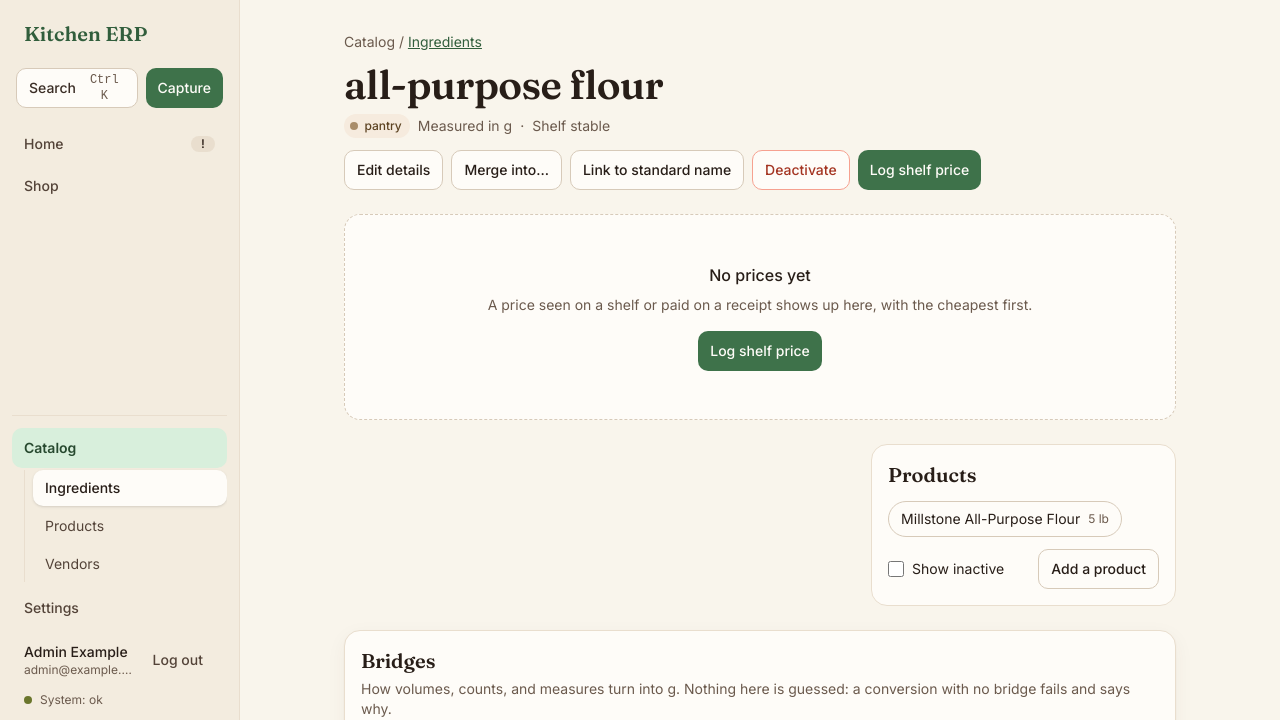
Test: an ingredient's own page › merges into another ingredient after the link page's preview, keeping the other's name
Click the button "Merge into…" at {"x": 507, "y": 170}, box [451,150,562,190]
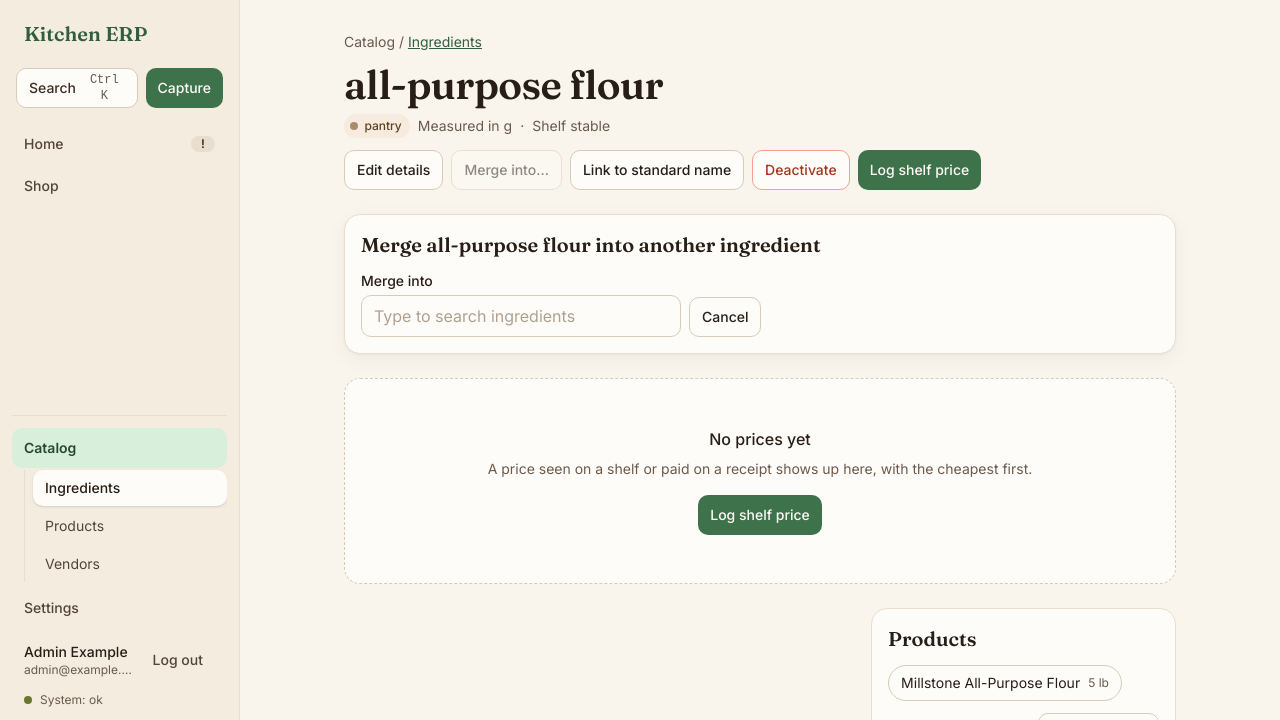
Type "wheat" into the dropdown labelled "Merge into" at {"x": 521, "y": 316}, box [361,295,681,337]
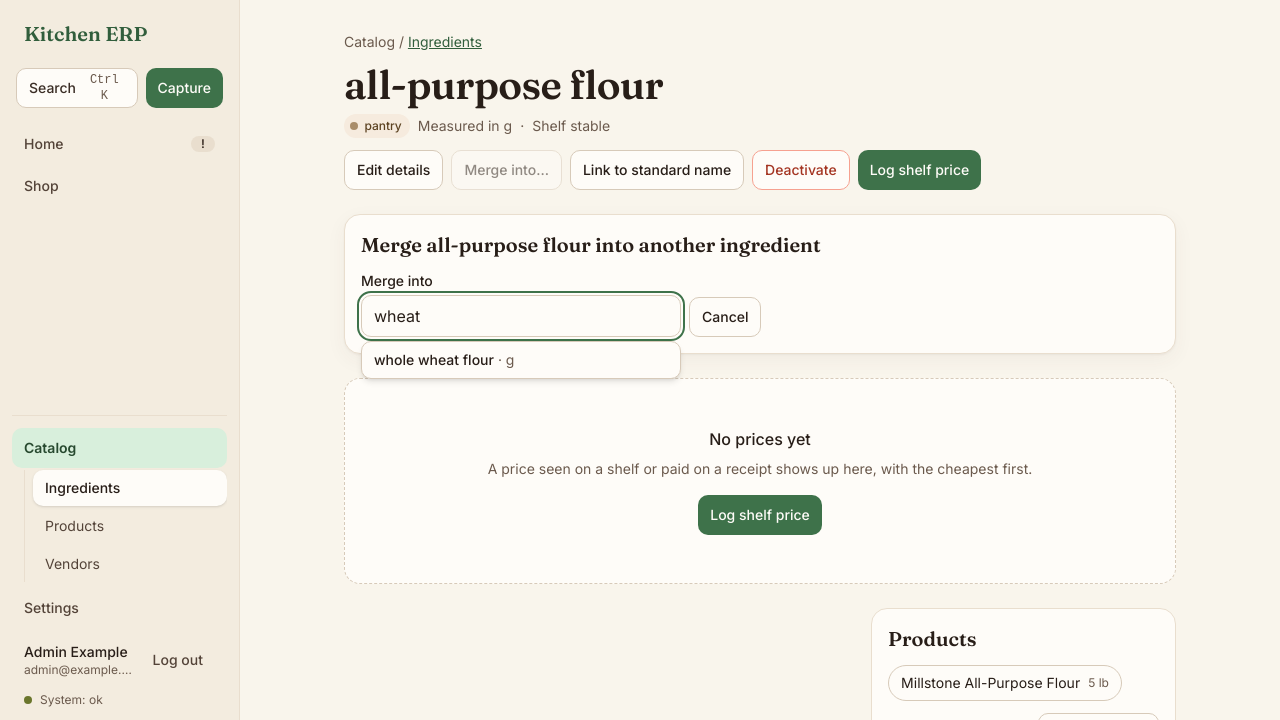
Click the option "whole wheat flour · g" at {"x": 444, "y": 360}, box [374,351,514,368]
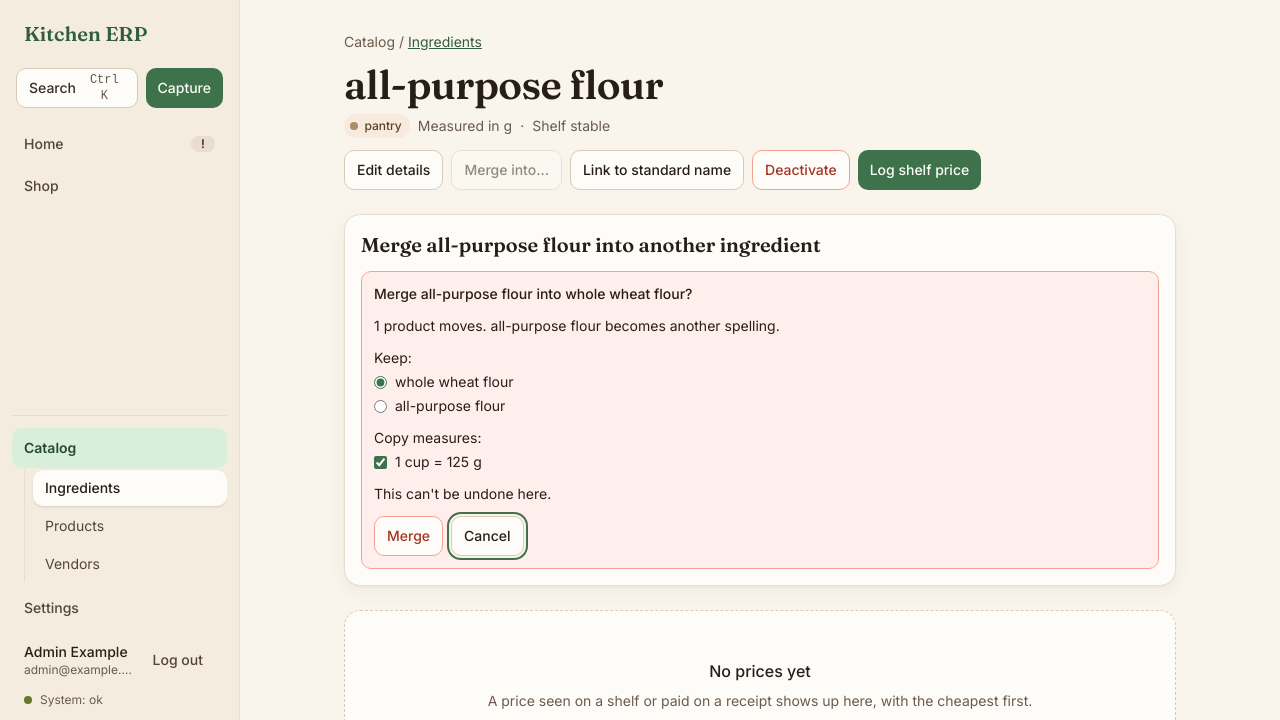
Expected: the element "Merge all-purpose flour into whole wheat flour?" shows "1 product moves. all-purpose flour becomes another spelling.", [361,271,1159,569]
Expected: the radio button labelled "whole wheat flour" is checked, [374,376,387,388]
Click the button "Merge" at {"x": 408, "y": 536}, box [374,516,443,556]
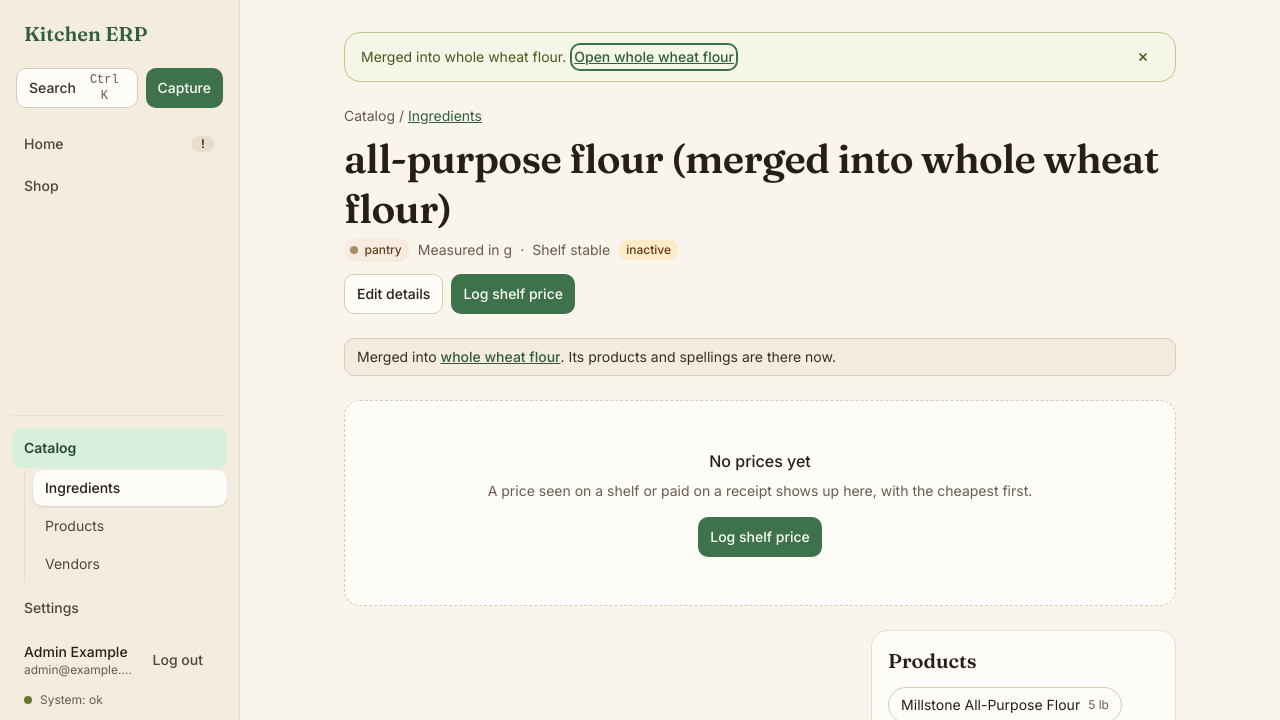
Expected: the message with test id "notice" shows "Merged into whole wheat flour.", [361,48,566,65]
Expected: the button "Merge into…" is gone
Expected: the button "Link to standard name" is gone
